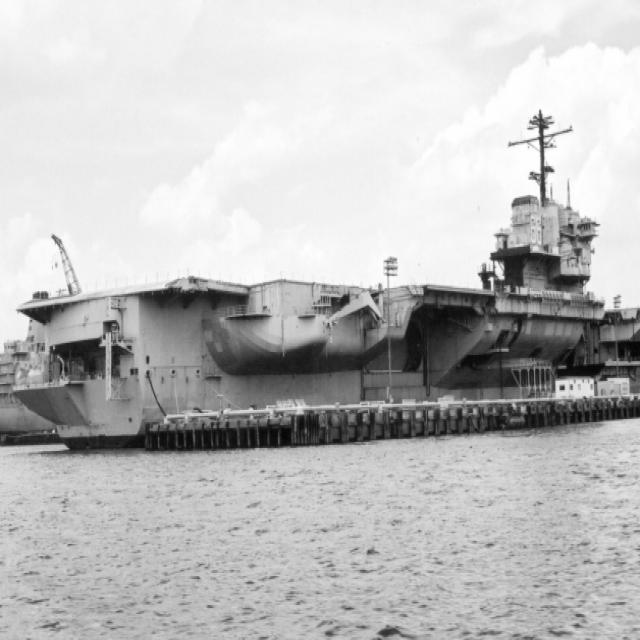Portanaves: (8, 100, 640, 464)
